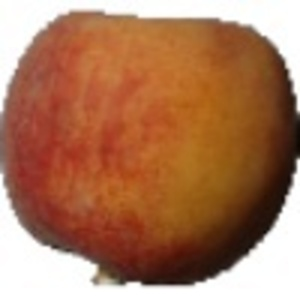pêssego: (1, 8, 300, 288)
